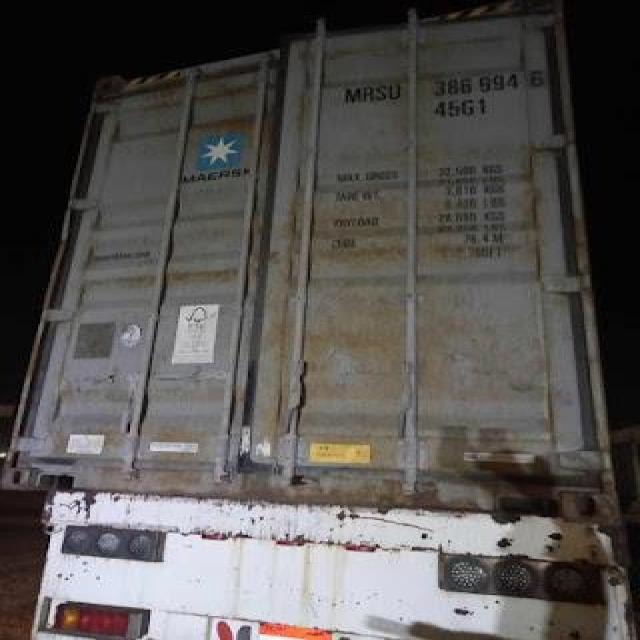ISO: (433, 100, 491, 119)
container_number: (360, 71, 535, 99)
